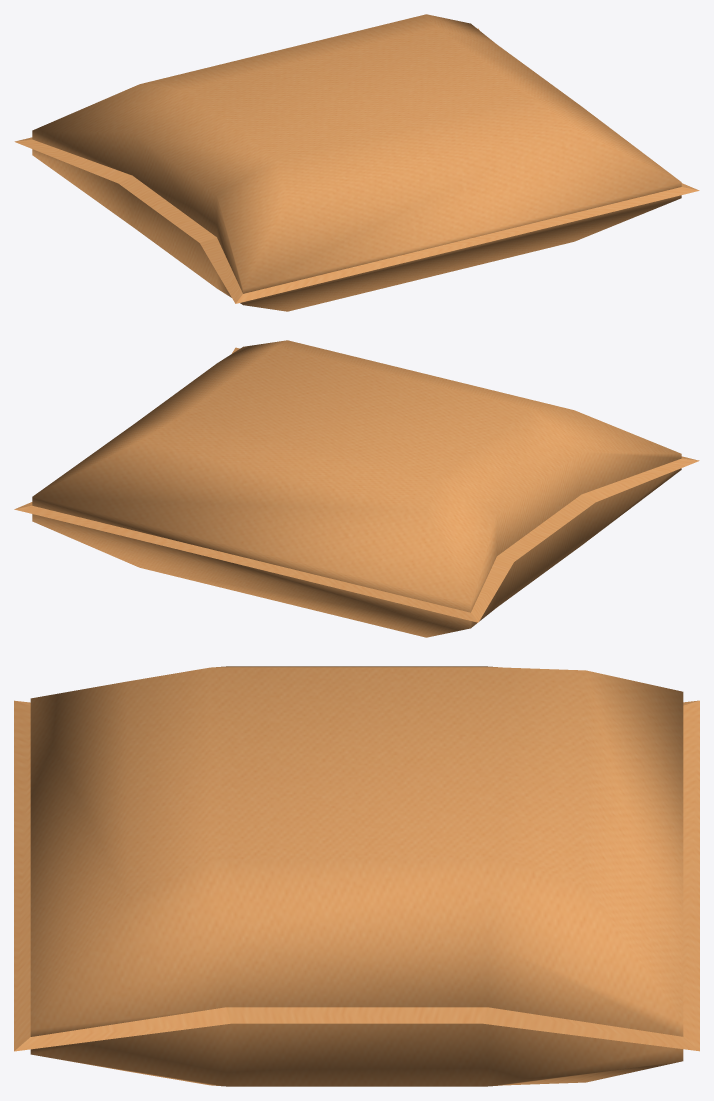
The model's file is T_Pillow_L2.FBX.
3 views of the same model, one above another, from view 1: azimuth 30°, elevation 25°; view 2: azimuth 150°, elevation 25°; view 3: azimuth 270°, elevation 25° (orthographic). The views are drawn at different scales.
Parts seen in each view (by area): view 1: Throw_Pillow; view 2: Throw_Pillow; view 3: Throw_Pillow.
Part boxes in pixels (x1,y1,x2,y2): Throw_Pillow: (14, 14, 699, 311); Throw_Pillow: (14, 340, 699, 637); Throw_Pillow: (14, 666, 699, 1086).
Bounding box in the file's own units: 127 × 37.95 × 105.
